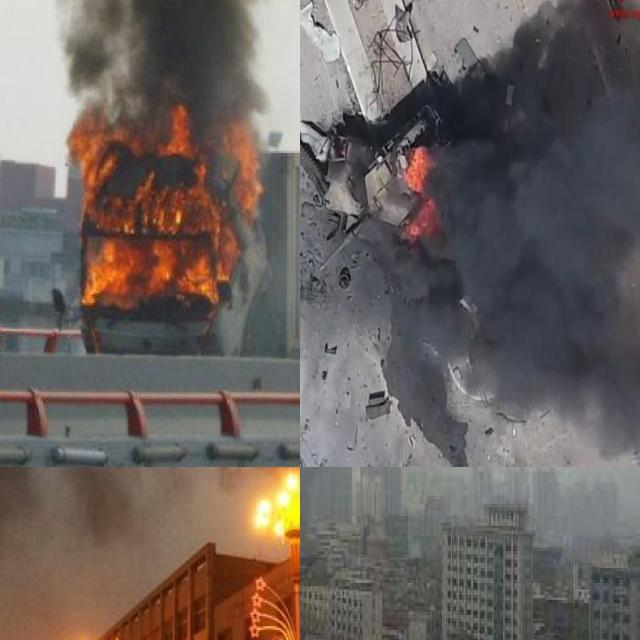fire: (73, 104, 267, 307), (400, 144, 439, 242)
smoke: (426, 0, 640, 453), (52, 0, 297, 137), (0, 467, 300, 573), (300, 467, 640, 532)
